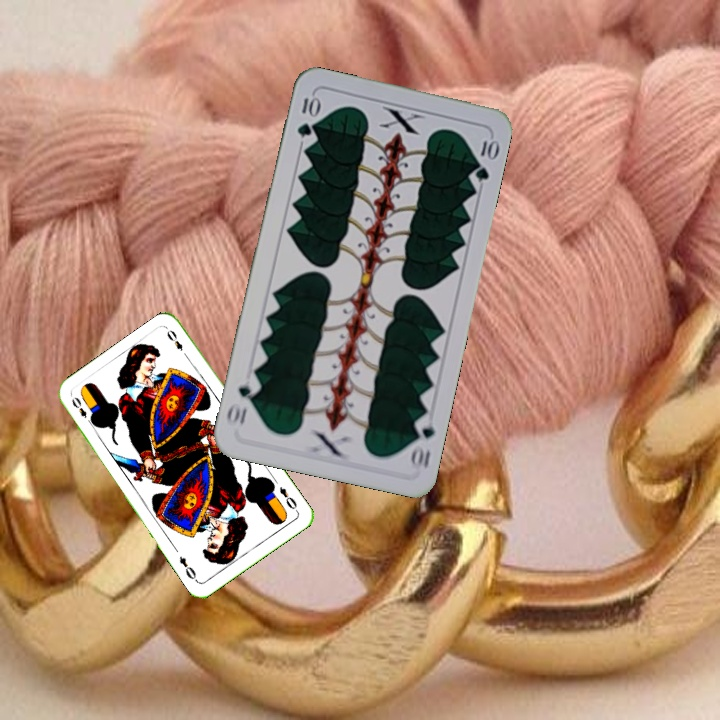EO: (67, 392, 96, 428), (275, 482, 301, 514)
G10: (406, 412, 437, 472), (293, 91, 321, 140)
